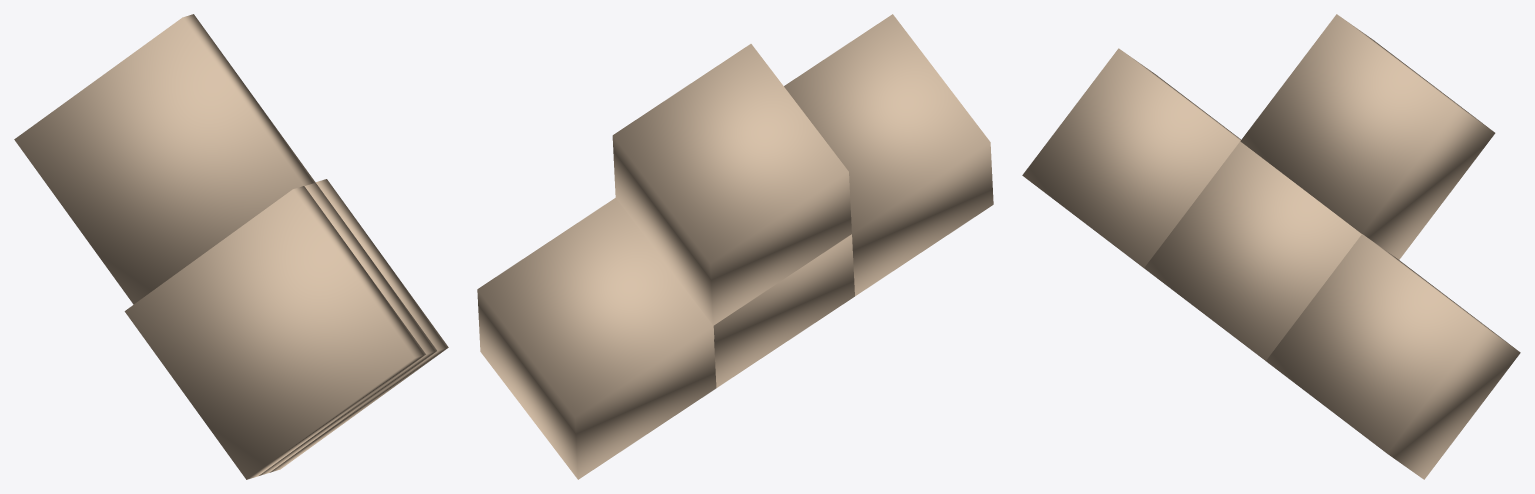
File: t-piece.dae
3 renders of one model, left to right at view 1: azimuth 30°, elevation 25°; view 2: azimuth 150°, elevation 25°; view 3: azimuth 270°, elevation 25°, orthographic. The views are drawn at different scales.
Parts seen in each view (by area): view 1: Cube1-0; view 2: Cube1-0; view 3: Cube1-0.
Part boxes in pixels (<box>): Cube1-0: <box>14,14,448,479</box>; Cube1-0: <box>477,14,993,479</box>; Cube1-0: <box>1022,14,1520,479</box>.
Size of the model in its own units: 5.27 by 5.64 by 6.24.
